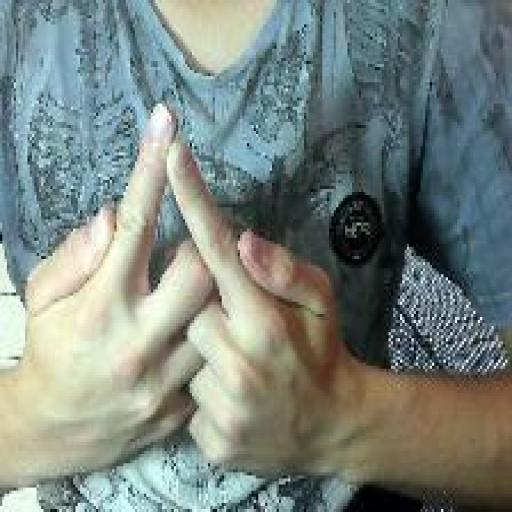Uma -horse-: (19, 92, 344, 488)
